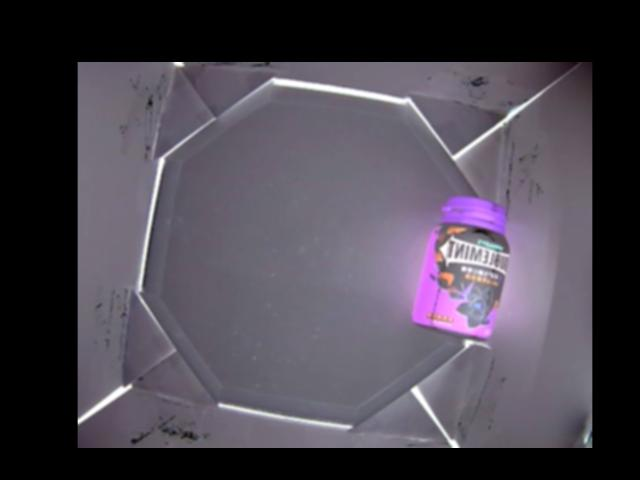Bottle: (413, 198, 511, 344)
